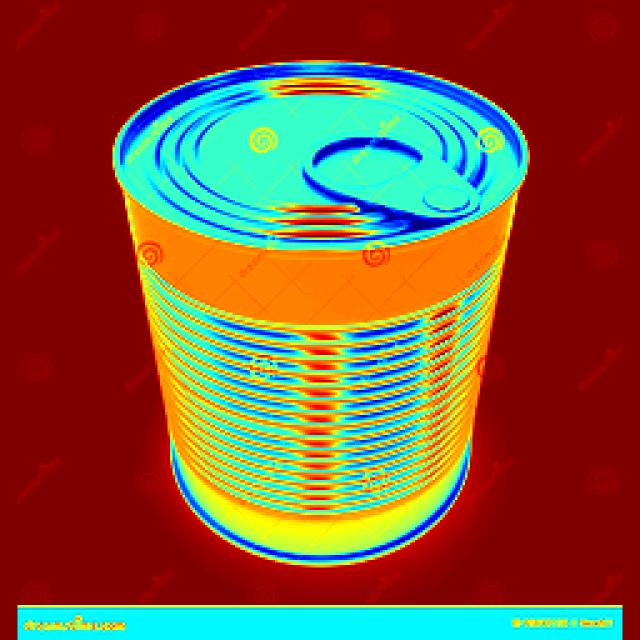Aluminium Food Cans: (115, 61, 530, 568)
